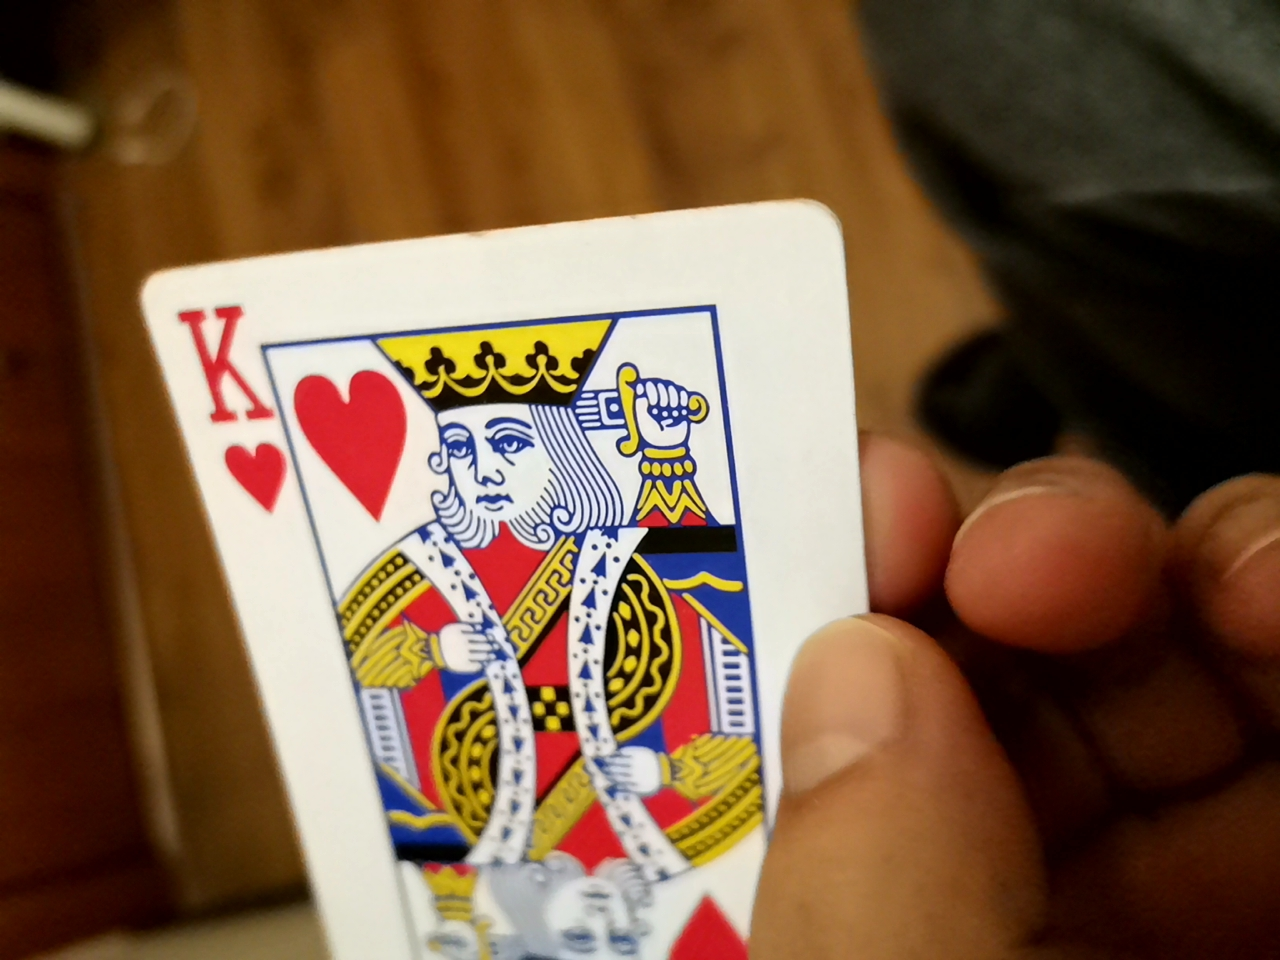hx k: (154, 218, 906, 959)
